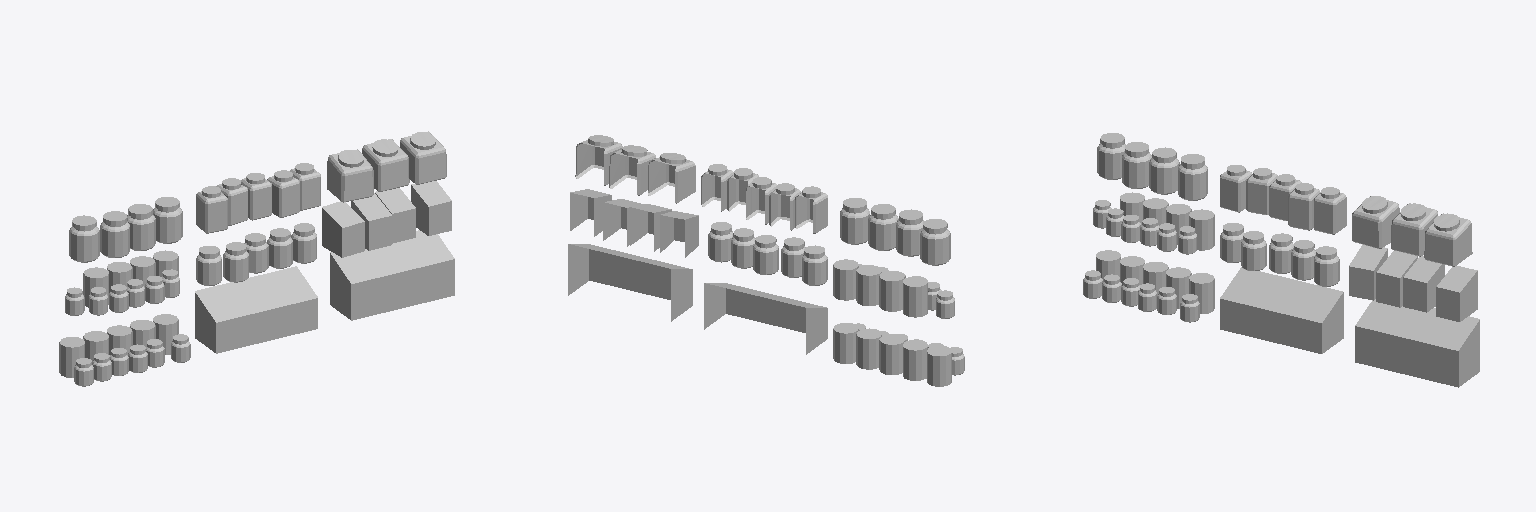
The model's file is Shelf Jars.obj.
The picture shows the model from 3 angles: view 1: azimuth 30°, elevation 25°; view 2: azimuth 150°, elevation 25°; view 3: azimuth 330°, elevation 25°; orthographic projection.
Visible parts, largest first — view 1: tanaAin.001_meshId1, tanaAin_meshId0; view 2: tanaAin.001_meshId1, tanaAin_meshId0; view 3: tanaAin.001_meshId1, tanaAin_meshId0.
Part boxes in pixels (x1,y1,x2,y2): tanaAin.001_meshId1: (59,131,454,377); tanaAin_meshId0: (65,138,435,386); tanaAin.001_meshId1: (568,135,962,386); tanaAin_meshId0: (588,139,964,375); tanaAin.001_meshId1: (1085,133,1479,387); tanaAin_meshId0: (1083,139,1459,322).
Bounding box in the file's own units: 243 × 96.1 × 27.86.